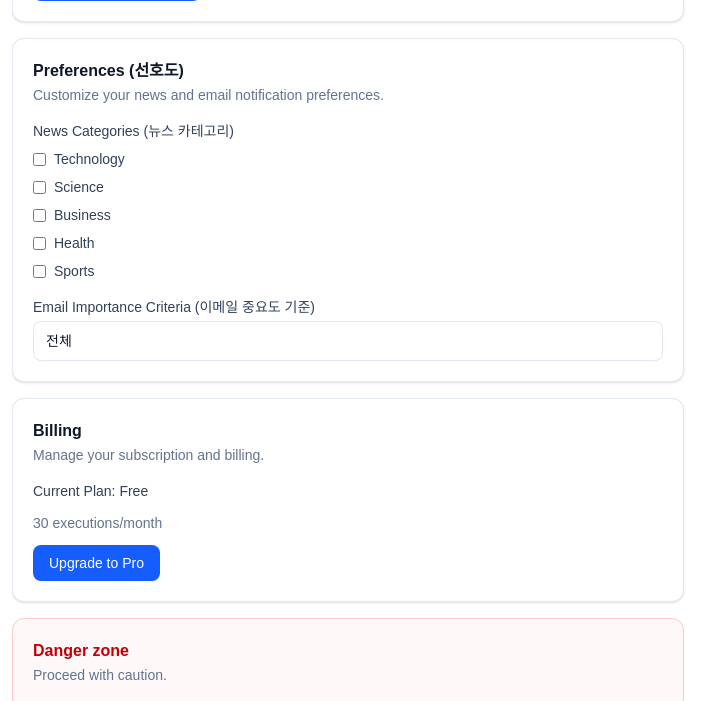
Test: TC-7010: 이메일 중요도 기준 설정 › TC-7010: 저장 성공 시 성공 메시지 표시
This screenshot has width=701, height=701.
(page scrolled)
Select "발신자" in the dropdown labelled "Email Importance Criteria (이메일 중요도 기준)" at (348, 341), box [33,321,663,361]
(page scrolled)
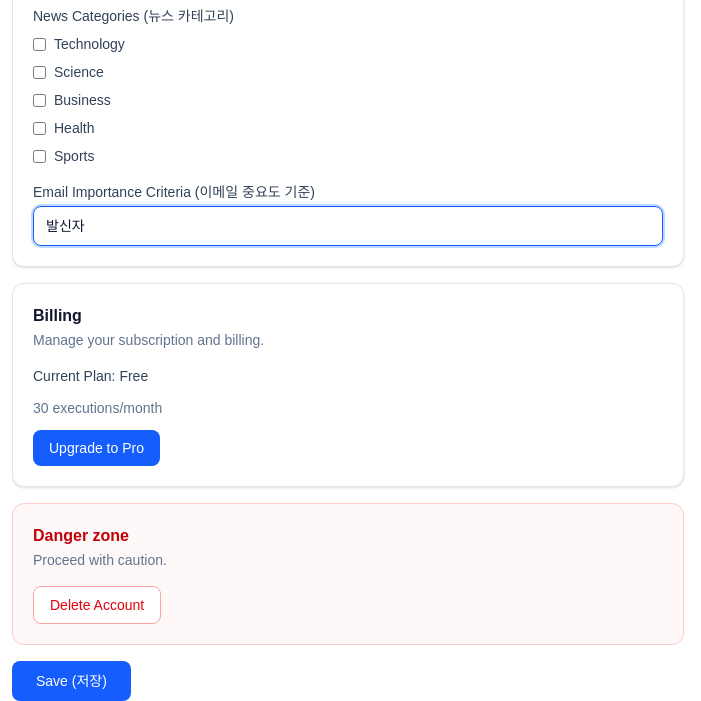
Click the button "Save (저장)" at (71, 681), box [12,661,131,700]
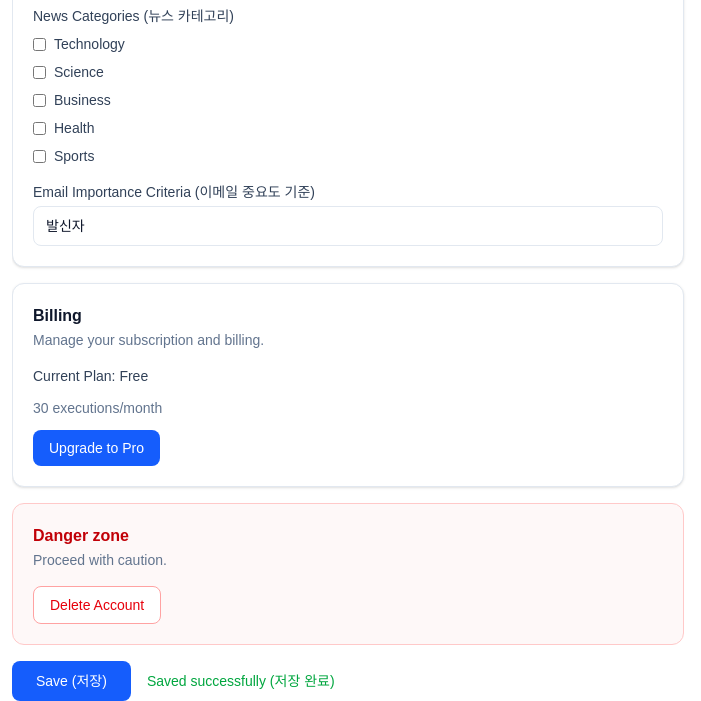
Expected: the text "Saved successfully (저장 완료)" is shown, [147,671,335,691]
